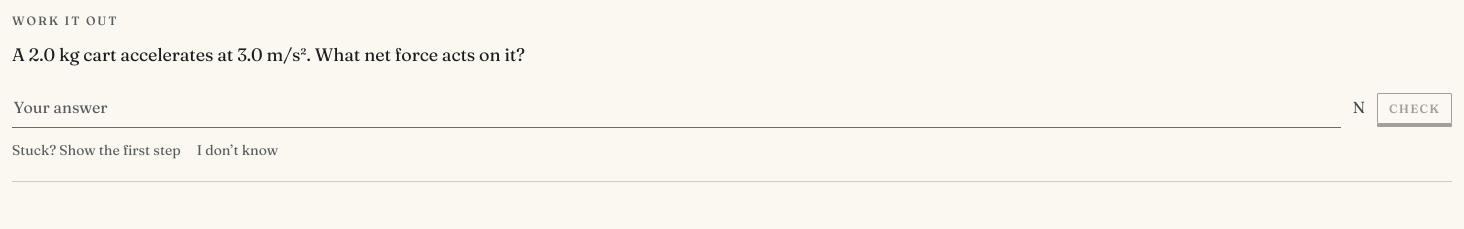
Test case: ProblemCard, a number to check › asks for a number, and counts nothing, when none was typed
Type "no idea" into the field named "Your answer, in N". click: (676, 108)
box: left=12, top=87, right=1341, bottom=128
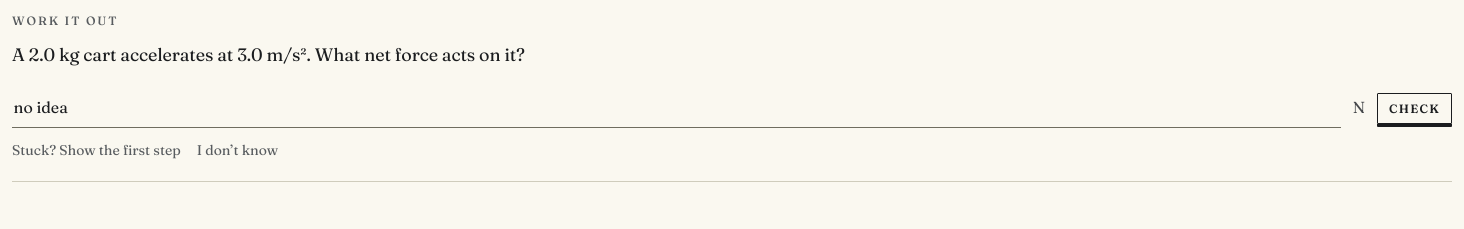
Click the button "Check". click: (1415, 108)
box: left=1377, top=93, right=1452, bottom=124
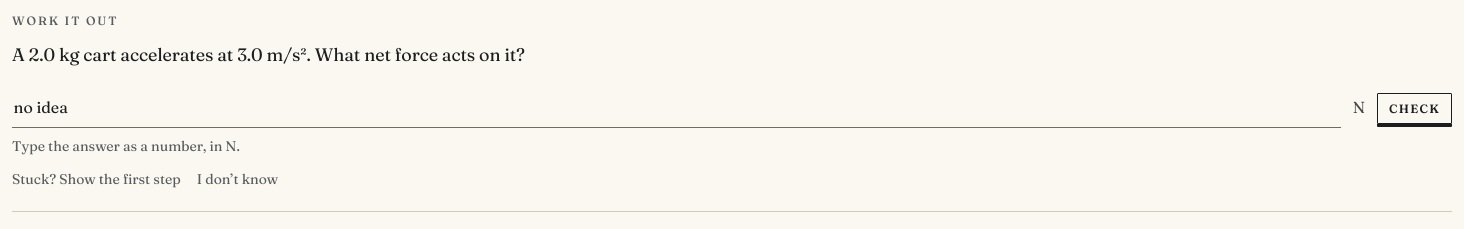
Expected: the text "Type the answer as a number, in N." is shown, left=12, top=136, right=240, bottom=154
